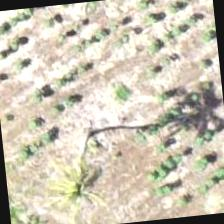Kelapa_Sawit: (29, 129, 129, 223)
